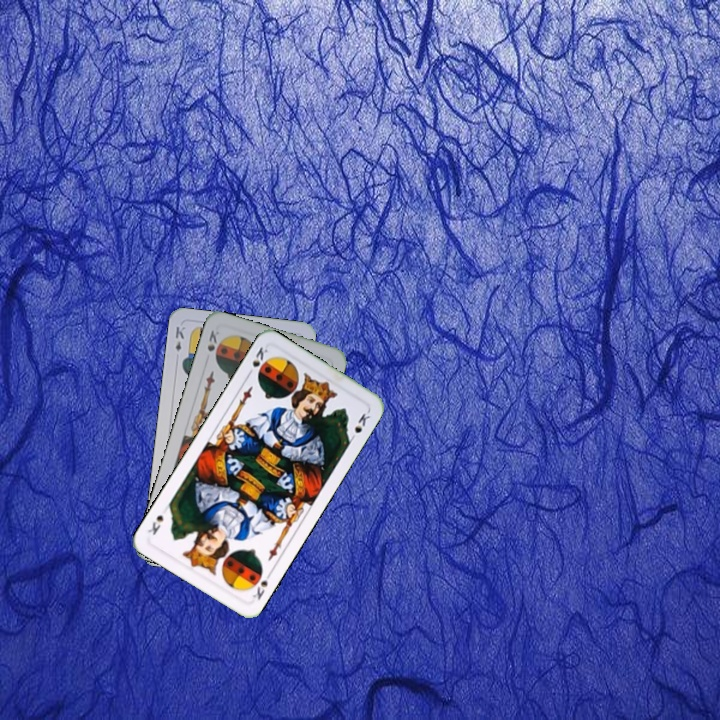EK: (171, 322, 187, 354)
SK: (243, 342, 271, 379), (249, 567, 275, 602), (203, 326, 223, 354)
